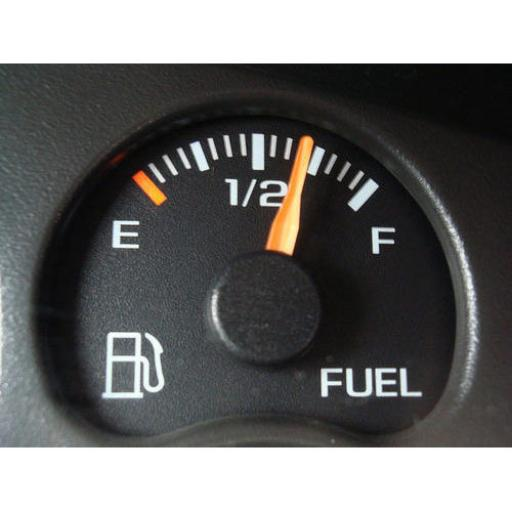empty: (109, 212, 148, 256)
fuel_icon: (97, 327, 167, 413)
full: (365, 221, 412, 263)
guage_area: (2, 64, 512, 447)
needle_center: (206, 228, 328, 360)
needle_tip: (296, 130, 318, 168)
